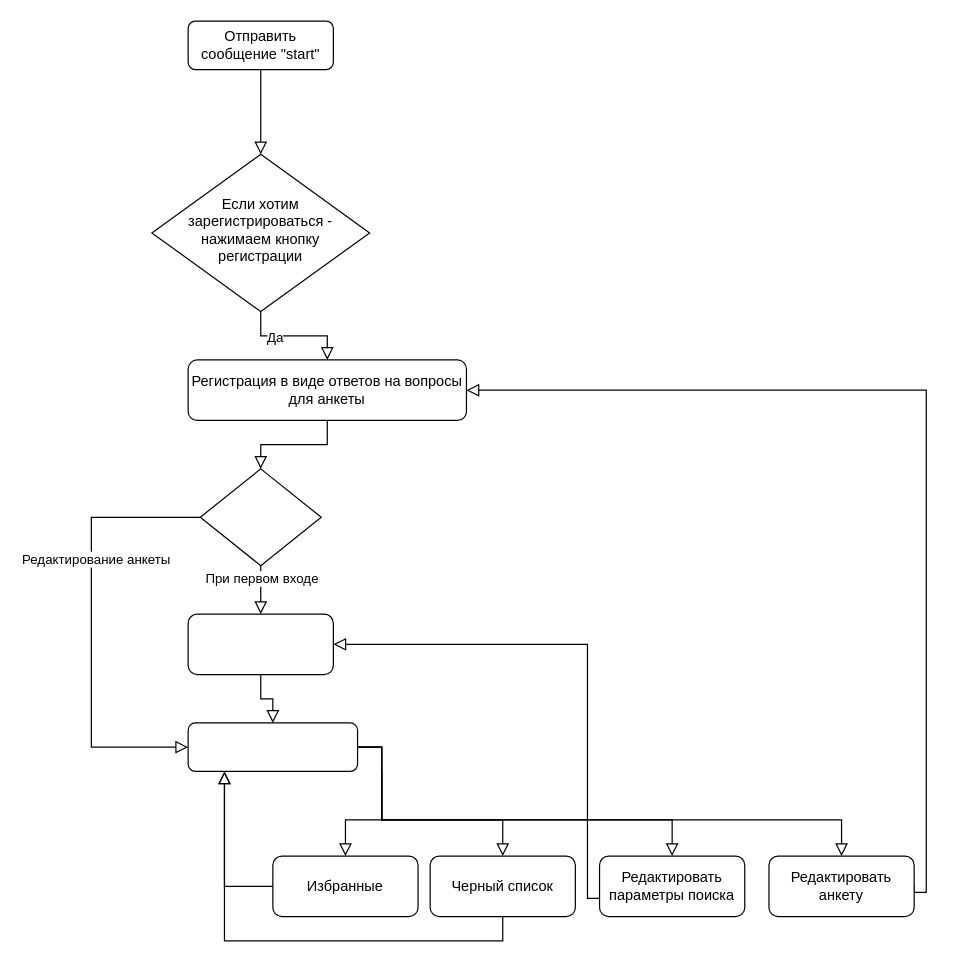
Some shapes in this 960 by 974 pixel diagram are drawn without their labels. Here are the shapes that lost their labels. From the top down, the centre of each, then its label:
the point at 260,517: Если сохраняем анкету
the point at 260,644: Создание параметров для поиска
the point at 272,746: Главное меню чата
